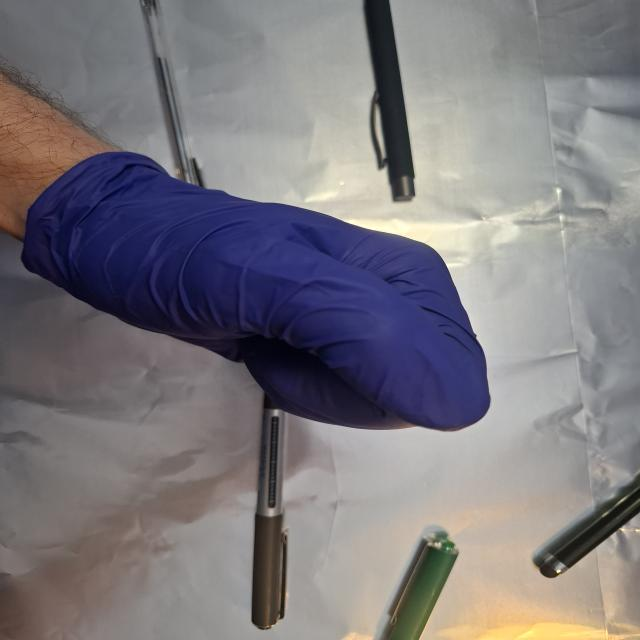glove_on: (16, 149, 496, 437)
